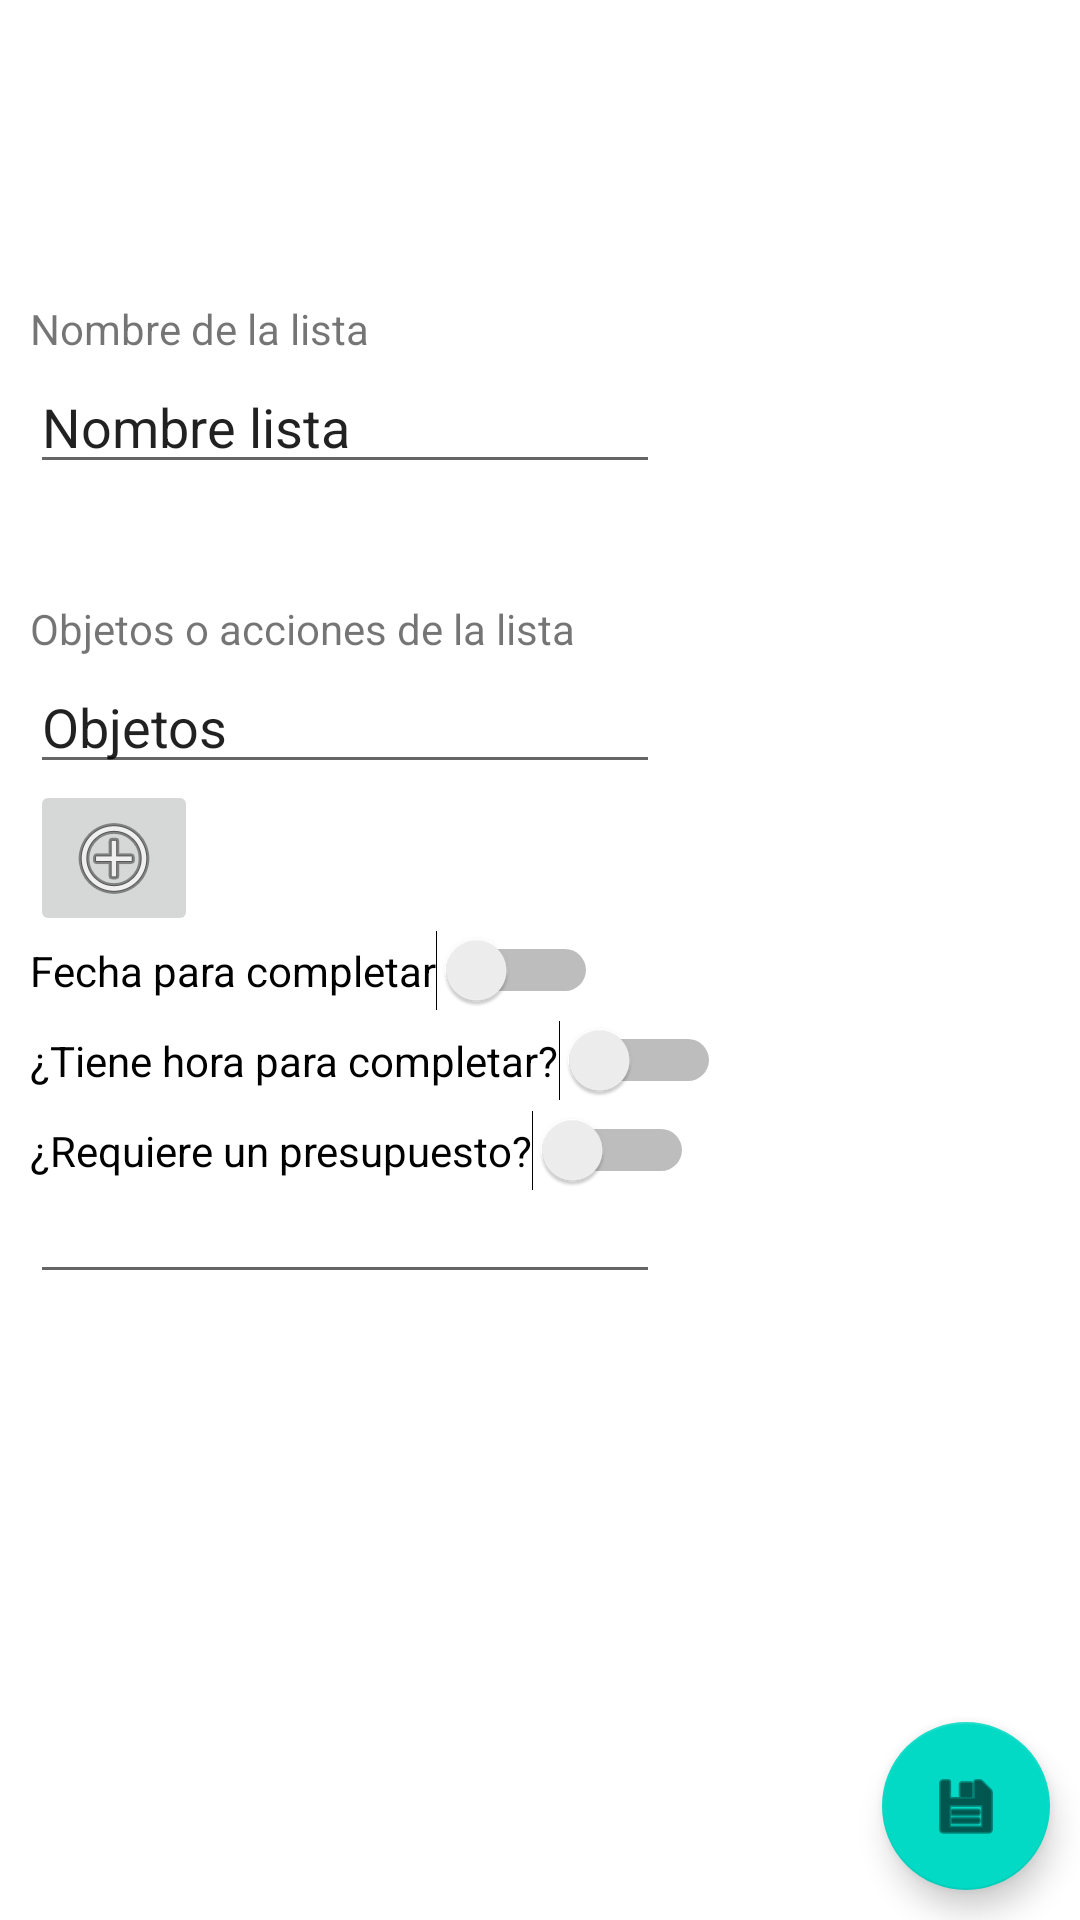

Locate icon controls on the screen. Image size 1080 x 1920, boxes as (x1, y1, x2, y2).
add: (42, 798, 186, 918)
save: (882, 1722, 1050, 1890)
